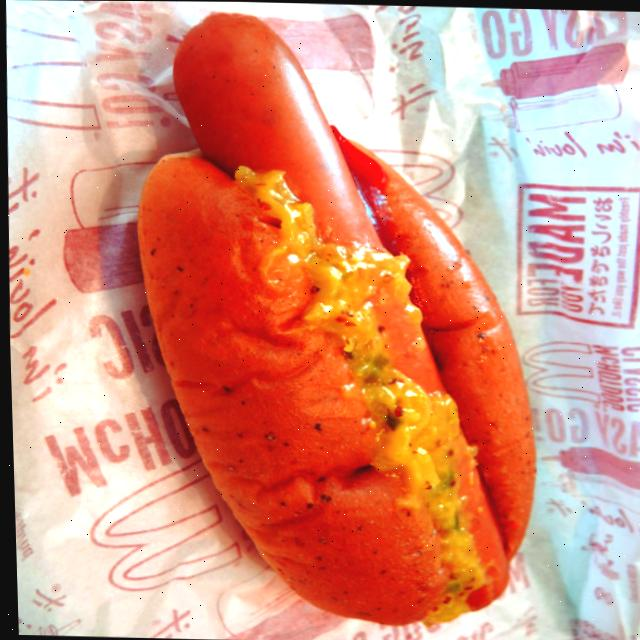汉堡快餐: (105, 1, 573, 639)
